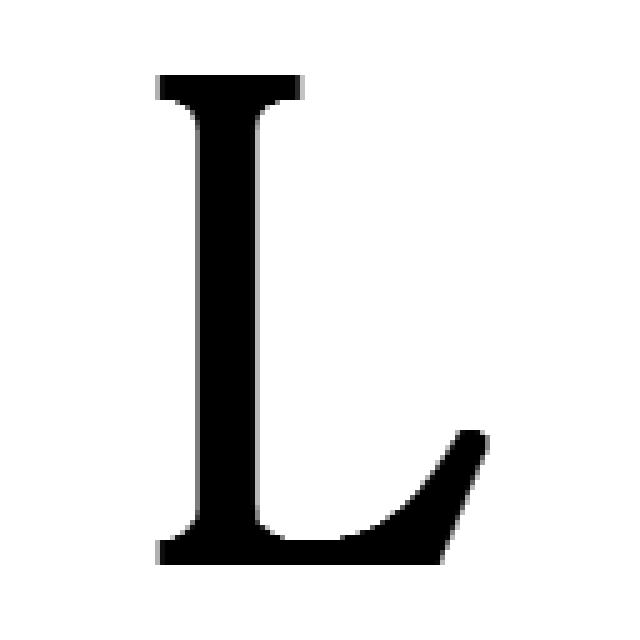L: (151, 71, 492, 568)
